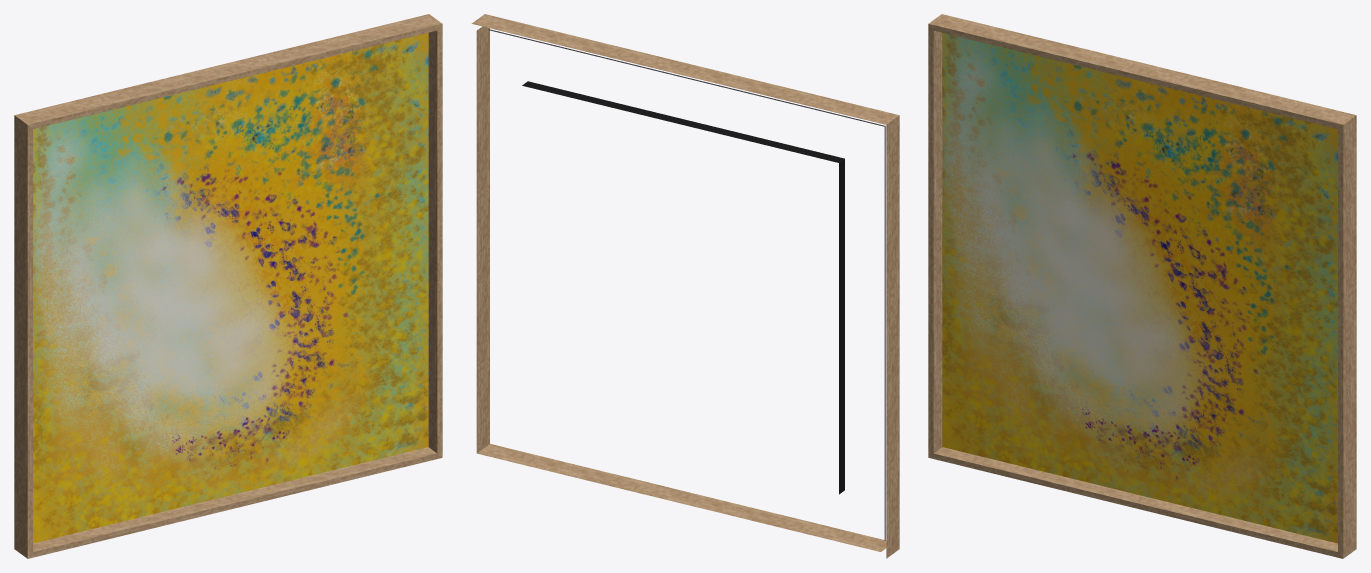
Rendered from va249_moyen_caisse-chene.glb.
The picture shows the model from 3 angles, left to right: view 1: azimuth 30°, elevation 25°; view 2: azimuth 150°, elevation 25°; view 3: azimuth 330°, elevation 25°; orthographic projection.
Parts seen in each view (by area): view 1: va249_moyen_caisse-chene; view 2: va249_moyen_caisse-chene; view 3: va249_moyen_caisse-chene.
Part boxes in pixels (x1=…): va249_moyen_caisse-chene: x1=14, y1=14, x2=442, y2=558; va249_moyen_caisse-chene: x1=471, y1=14, x2=899, y2=558; va249_moyen_caisse-chene: x1=928, y1=14, x2=1356, y2=558.
Size of the model in its own units: 0.628 by 0.628 by 0.035.
4 materials, 2 textured.
